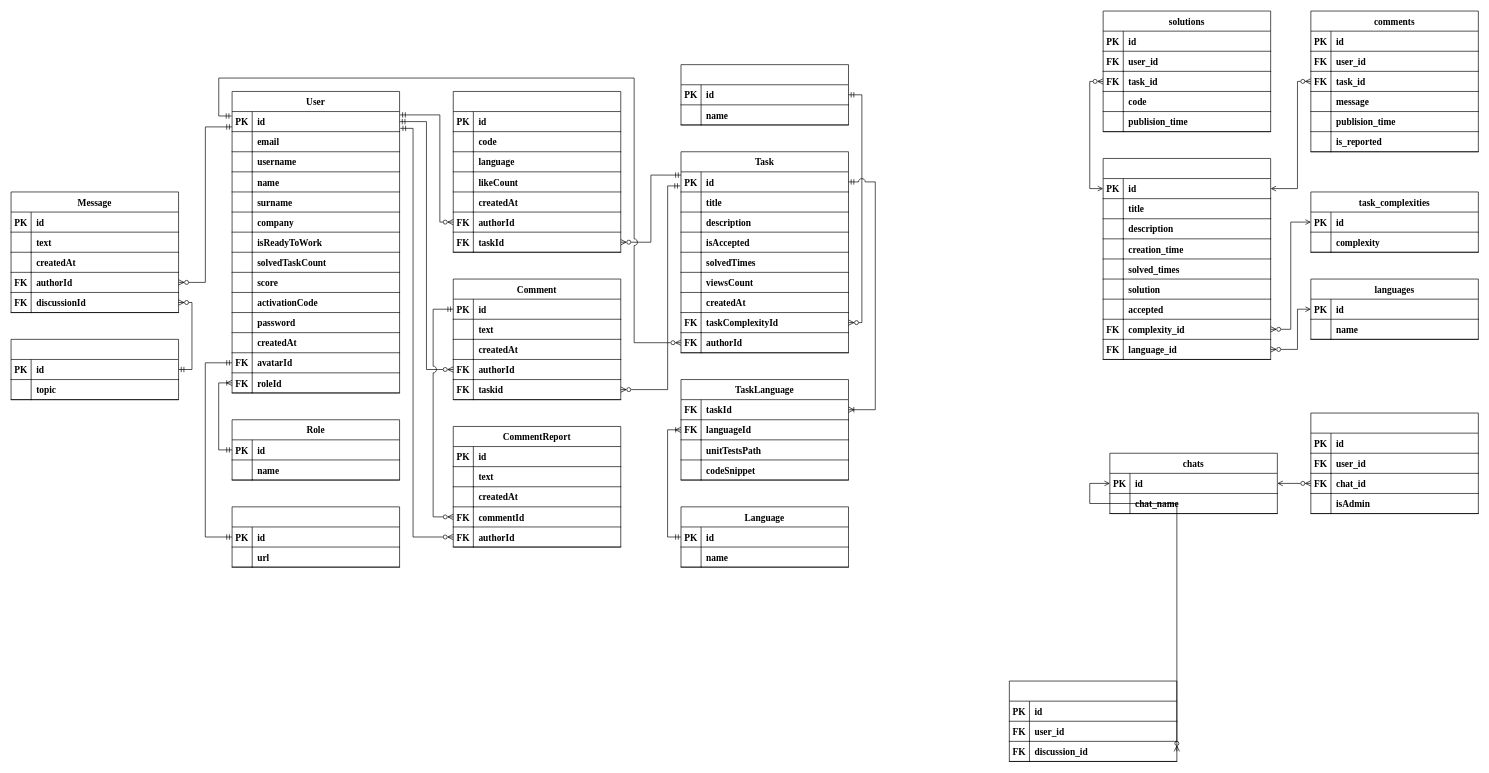
Some shapes in this 1489 by 773 pixel diagram are drawn without their labels. Each missing label, with the box of its shape:
Avatar: (231, 506, 400, 567)
chat_participants: (1310, 412, 1478, 514)
Discussion: (10, 339, 179, 400)
messages: (1009, 680, 1177, 761)
TaskComplexity: (680, 64, 848, 125)
tasks: (1102, 158, 1271, 359)
TaskSolution: (453, 91, 621, 252)
